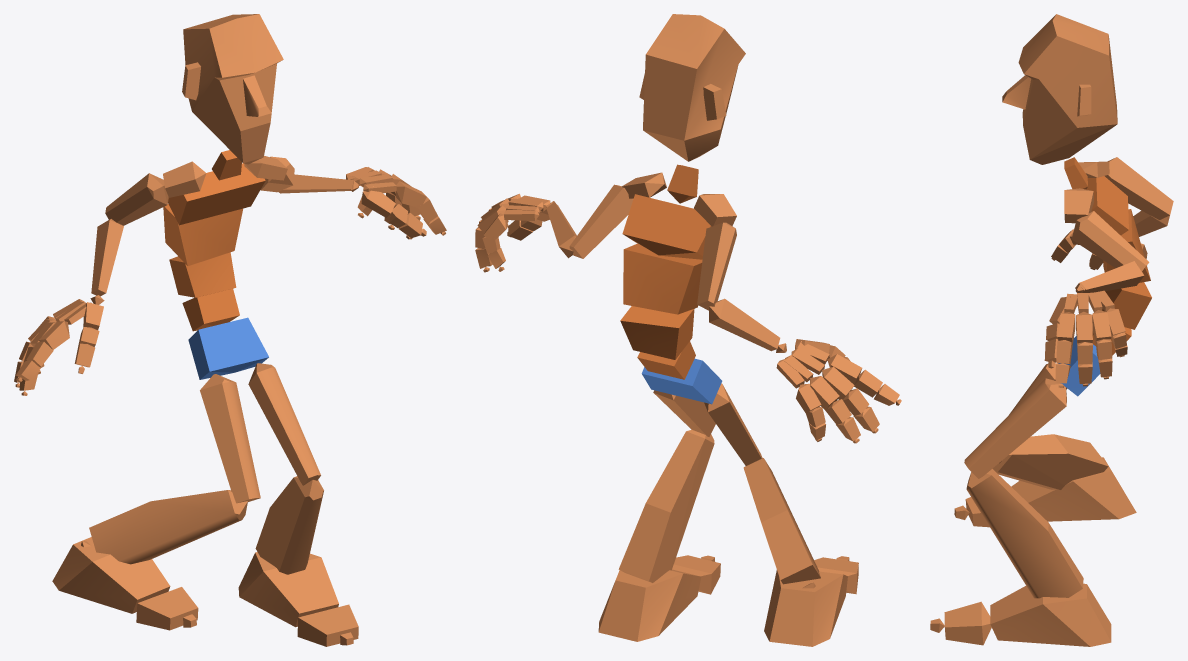
3 views of the same model, side by side, from view 1: azimuth 30°, elevation 25°; view 2: azimuth 150°, elevation 25°; view 3: azimuth 270°, elevation 25° (orthographic). The views are drawn at different scales.
Visible parts, largest first — view 1: BOPED_Head, BOPED_R_leg, BOPED_R_foot, BOPED_R_foot01, BOPED_L_leg, BOPED_R_legup, Bone01, BOPED_L_legup, Bone04, Bone05, Bone03, BOPED_R_arm_upper (+8 smaller); view 2: BOPED_Head, BOPED_L_leg, BOPED_R_foot01, BOPED_R_foot, Bone04, BOPED_R_leg, Bone05, Bone03, BOPED_R_arm_upper, BOPED_L_arm_upper, Bone01, BOPED_R_legup (+9 smaller); view 3: BOPED_Head, BOPED_L_leg, BOPED_R_foot01, BOPED_R_leg, BOPED_R_foot, BOPED_L_legup, BOPED_L_arm_upper, BOPED_R_arm_upper, BOPED_R_foot_toe04, Bone05, Bone03, BOPED_L_arm_fore (+13 smaller).
Part boxes in pixels (<box>): BOPED_Head: <box>182,14,283,164</box>; BOPED_R_leg: <box>89,490,247,564</box>; BOPED_R_foot: <box>52,537,170,613</box>; BOPED_R_foot01: <box>238,552,338,627</box>; BOPED_L_leg: <box>255,476,323,574</box>; BOPED_R_legup: <box>200,374,260,503</box>; Bone01: <box>188,317,268,379</box>; BOPED_L_legup: <box>248,363,320,485</box>; Bone04: <box>163,204,242,265</box>; Bone05: <box>168,163,265,225</box>; Bone03: <box>169,252,236,297</box>; BOPED_R_arm_upper: <box>105,173,168,225</box>; BOPED_Head: <box>639,14,745,161</box>; BOPED_L_leg: <box>618,429,714,582</box>; BOPED_R_foot01: <box>598,569,701,641</box>; BOPED_R_foot: <box>764,570,847,646</box>; Bone04: <box>623,243,702,314</box>; BOPED_R_leg: <box>743,458,820,584</box>; Bone05: <box>622,194,711,259</box>; Bone03: <box>620,306,694,359</box>; BOPED_R_arm_upper: <box>697,222,736,310</box>; BOPED_L_arm_upper: <box>569,184,633,258</box>; Bone01: <box>641,358,722,404</box>; BOPED_R_legup: <box>704,383,762,465</box>; BOPED_Head: <box>1002,14,1117,164</box>; BOPED_L_leg: <box>966,469,1083,598</box>; BOPED_R_foot01: <box>990,583,1111,646</box>; BOPED_R_leg: <box>992,434,1108,490</box>; BOPED_R_foot: <box>1011,457,1136,521</box>; BOPED_L_legup: <box>964,378,1066,478</box>; BOPED_L_arm_upper: <box>1071,211,1149,271</box>; BOPED_R_arm_upper: <box>1105,157,1173,219</box>; BOPED_R_foot_toe04: <box>944,601,991,645</box>; Bone05: <box>1086,176,1128,235</box>; Bone03: <box>1102,282,1151,329</box>; BOPED_L_arm_fore: <box>1075,261,1144,292</box>.
Size of the model in its own units: 130 by 177 by 66.29.
